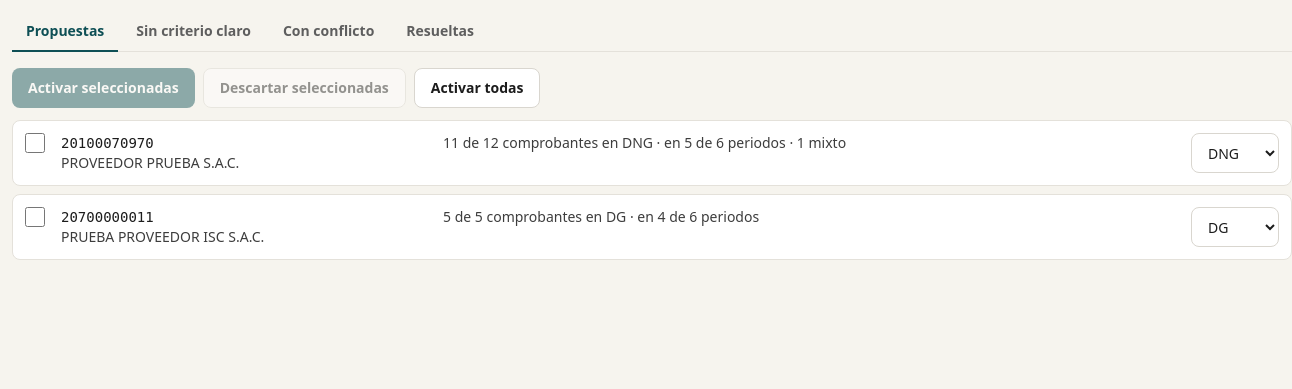
Test case: <CandidatasImportadas /> · activar y descartar (CA-3, D-5) › activar dos seleccionadas con el destino de una cambiado: manda destino solo en la cambiada, anuncia y avisa de U-6
Expected: the button "Activar seleccionadas" is disabled, [12,68,195,108]
Click the checkbox named "Seleccionar candidata de 20100070970". click: (35, 143)
box: [25,133,45,153]
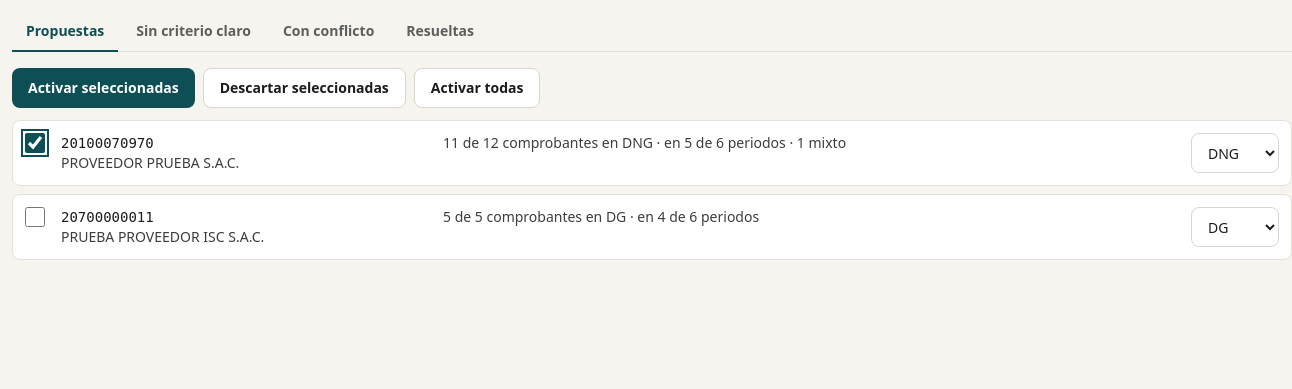
Click the checkbox named "Seleccionar candidata de 20700000011". click: (35, 217)
box: [25,207,45,227]
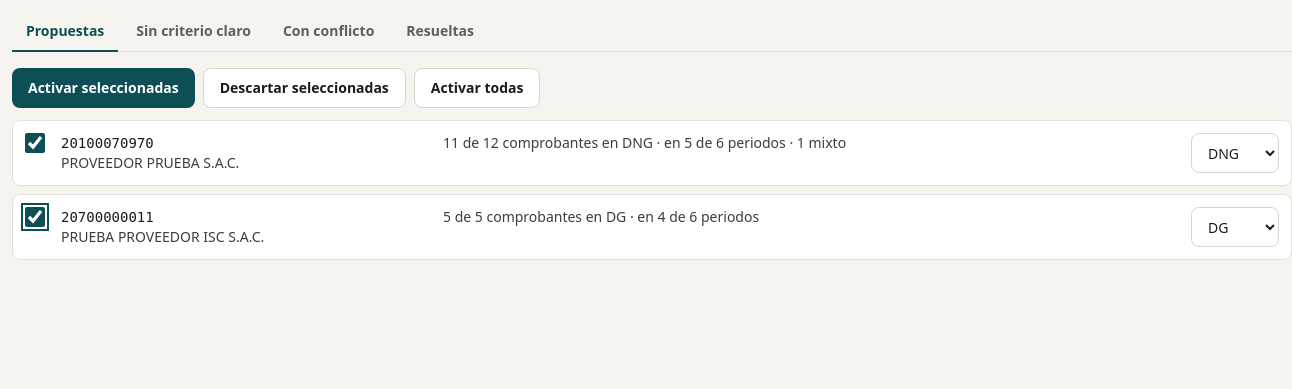
Select "DGNG" in the dropdown named "Destino de 20700000011". click: (1235, 227)
box: [1191,207,1279,247]
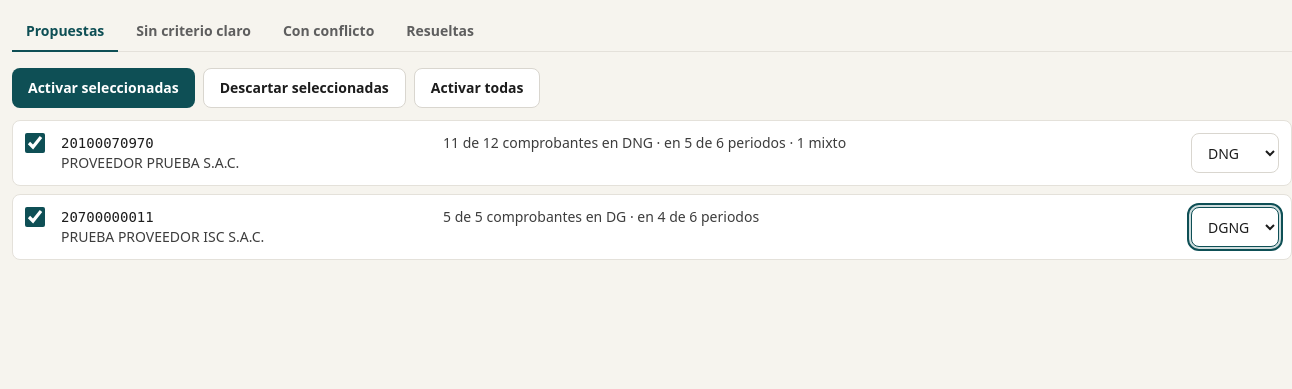
Now the button "Activar seleccionadas" is enabled
Click the button "Activar seleccionadas". click: (103, 88)
box: [12,68,195,108]
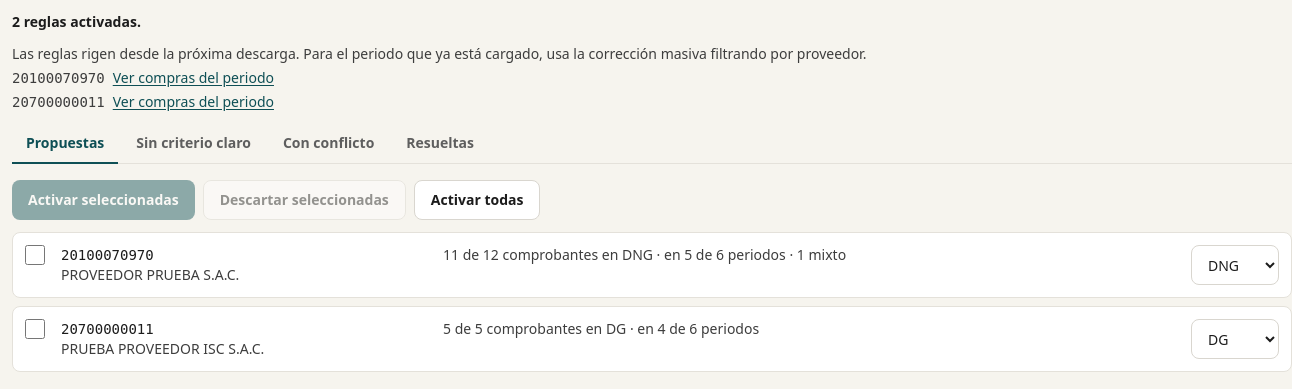
Now the text "2 reglas activadas." is shown, box [12,12,141,31]
Now the text "Las reglas rigen desde la próxima descarga. Para el periodo que ya está cargado, usa la corrección masiva filtrando por " is shown, box [12,44,866,63]
